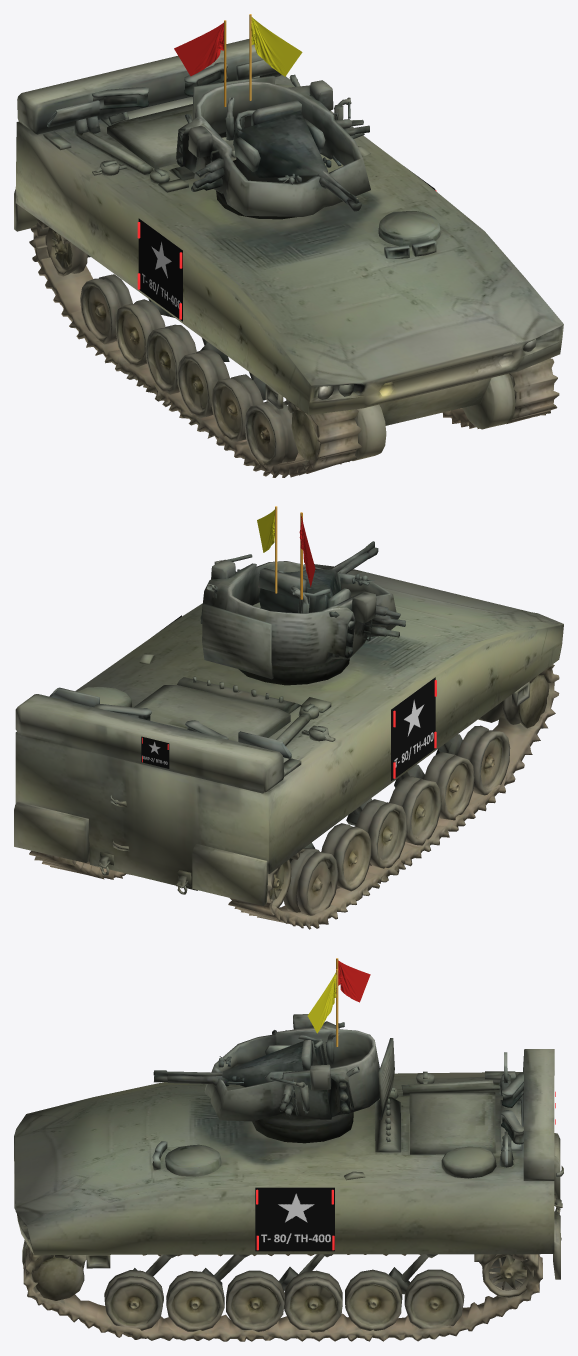
Rendered from destroyed_veh_op4.glb.
3 renders of one model, top to bottom at view 1: azimuth 30°, elevation 25°; view 2: azimuth 150°, elevation 25°; view 3: azimuth 270°, elevation 25°, orthographic. The views are drawn at different scales.
Parts seen in each view (by area): view 1: tripo_node_b858fb1a.002, tripo_node_b858fb1a.004, Plane.005, Cylinder, Cylinder.004; view 2: tripo_node_b858fb1a.002, tripo_node_b858fb1a.004, Plane.005, Cylinder, Plane.007, Cylinder.004; view 3: tripo_node_b858fb1a.002, tripo_node_b858fb1a.004, Plane.006, Cylinder, Cylinder.004.
Part boxes in pixels (<box>): tripo_node_b858fb1a.002: <box>14,39,563,477</box>; tripo_node_b858fb1a.004: <box>176,74,370,219</box>; Plane.005: <box>137,218,182,321</box>; Cylinder: <box>249,14,302,100</box>; Cylinder.004: <box>174,20,226,106</box>; tripo_node_b858fb1a.002: <box>14,564,563,929</box>; tripo_node_b858fb1a.004: <box>200,541,405,685</box>; Plane.005: <box>391,677,435,780</box>; Cylinder: <box>257,506,277,593</box>; Plane.007: <box>141,736,169,768</box>; Cylinder.004: <box>299,512,315,599</box>; tripo_node_b858fb1a.002: <box>14,1049,563,1341</box>; tripo_node_b858fb1a.004: <box>153,1014,394,1143</box>; Plane.006: <box>255,1187,334,1251</box>; Cylinder: <box>307,969,338,1046</box>; Cylinder.004: <box>336,958,370,1002</box>.
Bounding box in the file's own units: 1.36 × 1.76 × 2.8.
9 materials, 4 textured.
